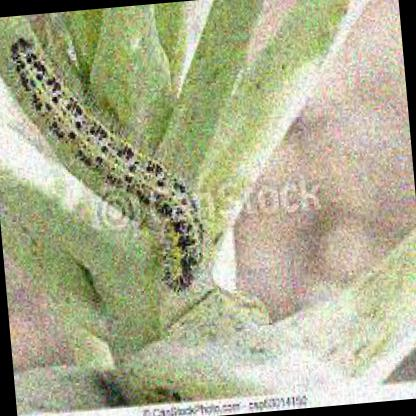pieris: (8, 36, 204, 298)
